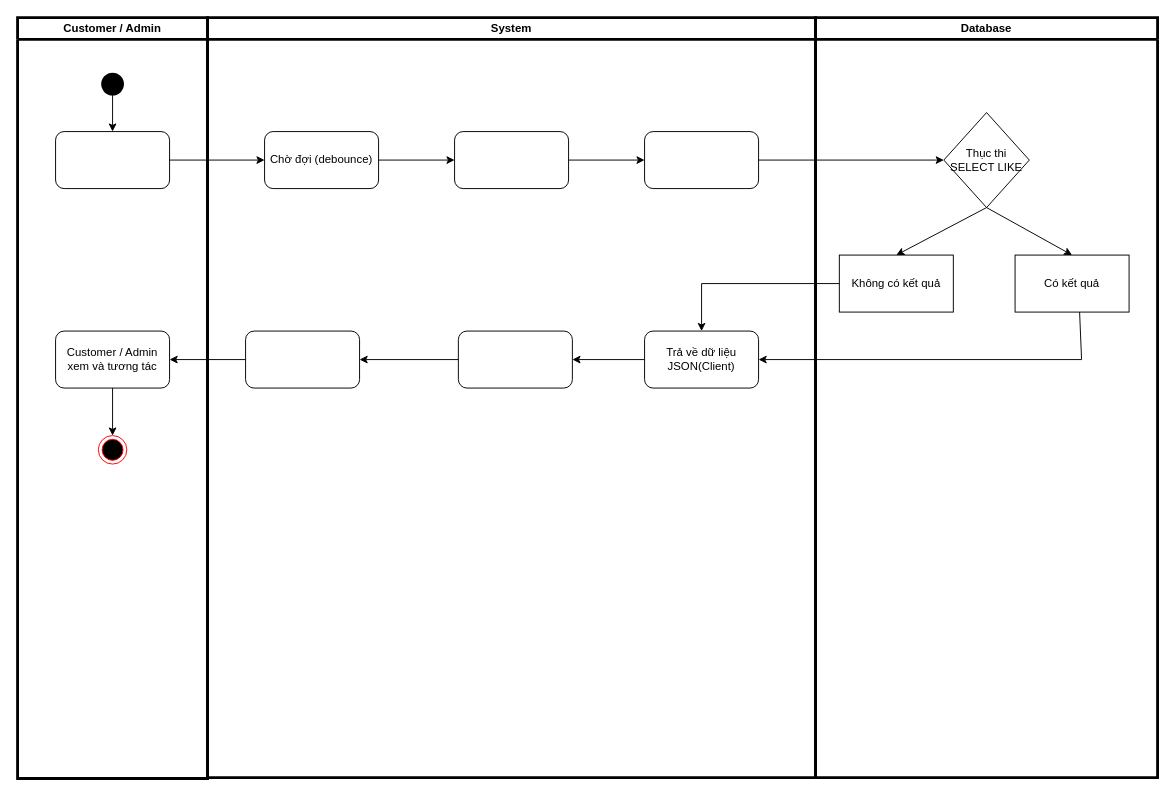
Image size: 1175x796. Some labels were removed from this diagram. The centre of each missing label's shape, as x and y in pixels:
Gõ từ khóa: point 112,160
Gửi yêu cầu AJAX: point 511,160
Hiển thị kết quả tức thì: point 302,359
Nhận từ khóa và truy vấn DB Sever: point 701,160
Xử lí dữ liệu JSON: point 514,359
